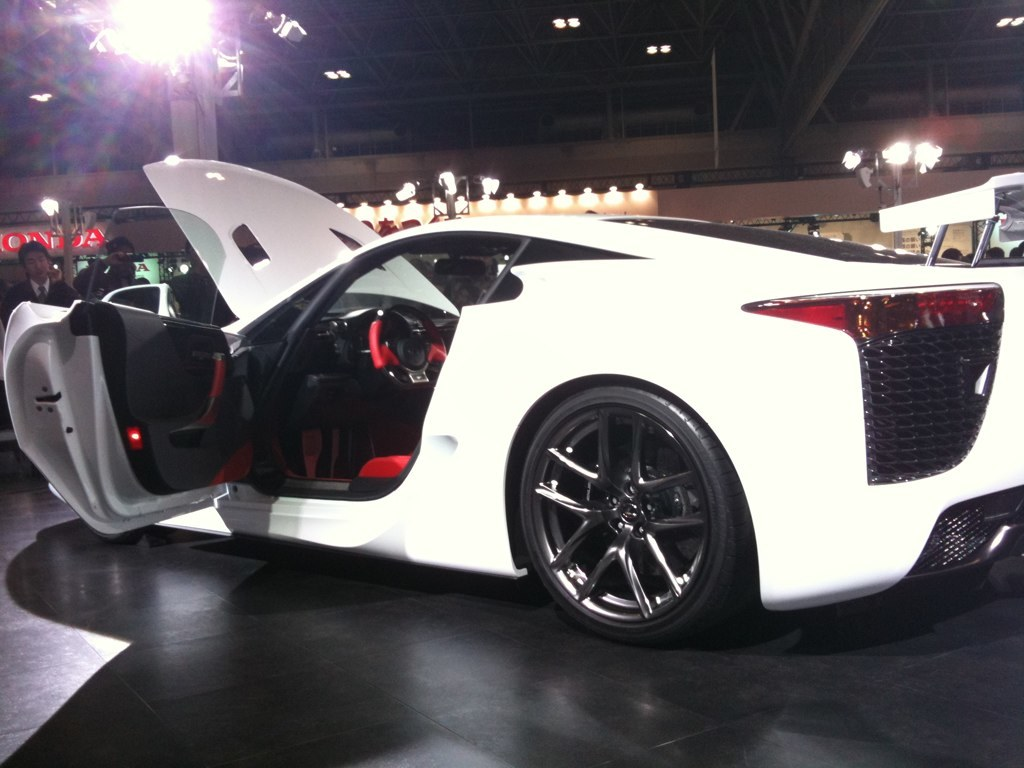person: (1, 240, 79, 323)
